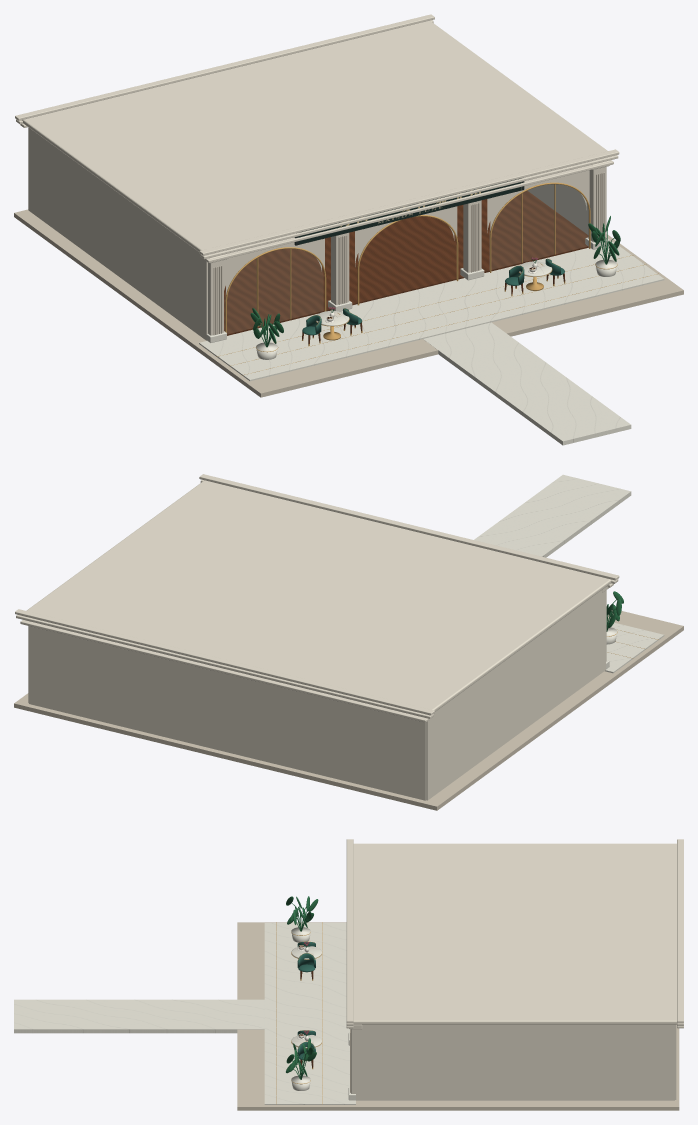
Rendered from exterior.glb.
The picture shows the model from 3 angles, top to bottom: view 1: azimuth 30°, elevation 25°; view 2: azimuth 150°, elevation 25°; view 3: azimuth 270°, elevation 25°; orthographic projection. The views are drawn at different scales.
Visible parts, largest first — view 1: shell_cafe_ivory, shell_cafe_marble, shell_cafe_walnut, shell_cafe_plaster, shell_cafe_brass, shell_cafe_lettering, shell_cafe_leaf, shell_cafe_velvet_emerald; view 2: shell_cafe_ivory, shell_cafe_marble, shell_cafe_plaster; view 3: shell_cafe_ivory, shell_cafe_marble, shell_cafe_plaster, shell_cafe_leaf, shell_cafe_velvet_emerald, shell_cafe_brass.
Part boxes in pixels (x1,y1,x2,y2): shell_cafe_ivory: [15, 14, 619, 340]; shell_cafe_marble: [199, 237, 664, 445]; shell_cafe_walnut: [224, 190, 588, 343]; shell_cafe_plaster: [14, 172, 683, 397]; shell_cafe_brass: [216, 182, 658, 375]; shell_cafe_lettering: [299, 178, 521, 244]; shell_cafe_leaf: [250, 216, 620, 347]; shell_cafe_velvet_emerald: [302, 258, 564, 335]; shell_cafe_ivory: [15, 474, 619, 800]; shell_cafe_marble: [474, 474, 664, 673]; shell_cafe_plaster: [14, 610, 683, 810]; shell_cafe_ivory: [346, 839, 683, 1100]; shell_cafe_marble: [14, 923, 355, 1104]; shell_cafe_plaster: [237, 922, 679, 1110]; shell_cafe_leaf: [286, 896, 318, 1079]; shell_cafe_velvet_emerald: [297, 942, 315, 1060]; shell_cafe_brass: [276, 922, 322, 1104].
Bounding box in the file's own units: 19.2 × 4.28 × 29.4.
15 materials, 3 textured.
